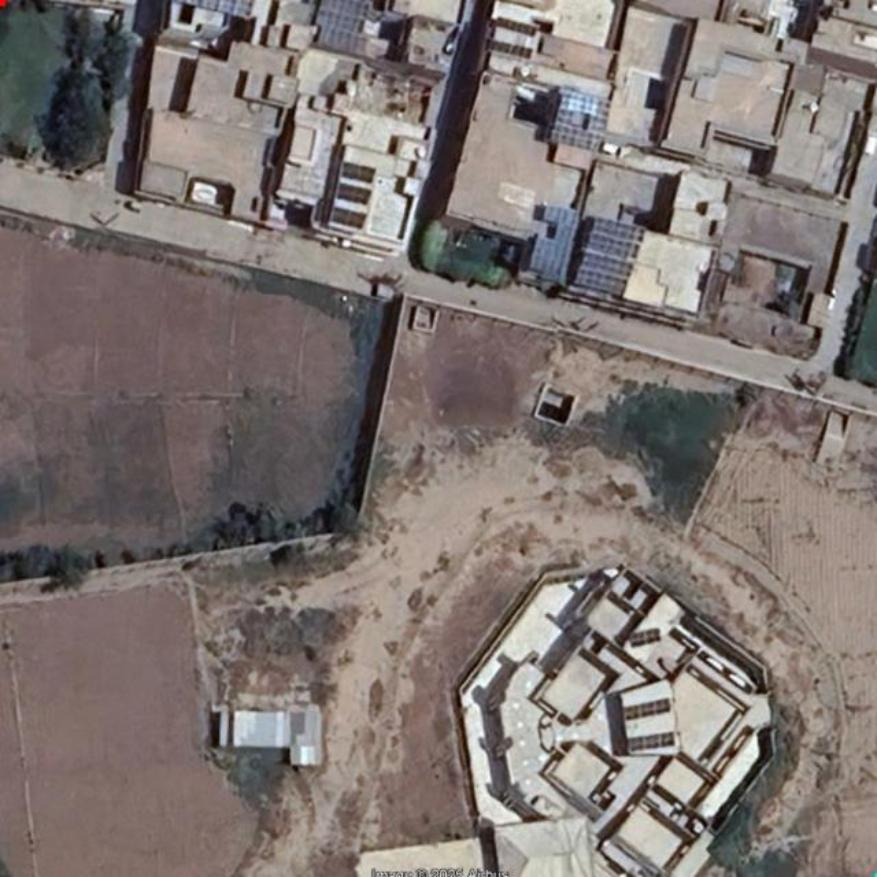Solarpanel: (575, 216, 644, 296), (528, 204, 580, 284), (548, 90, 613, 152), (307, 0, 371, 53), (181, 0, 255, 18)
